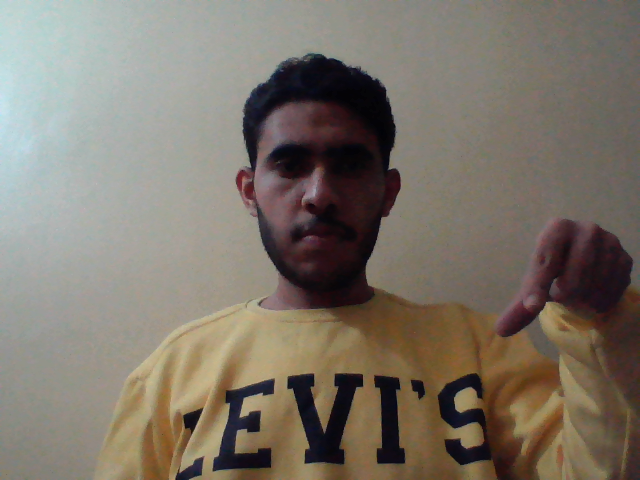Q: (499, 219, 636, 350)
